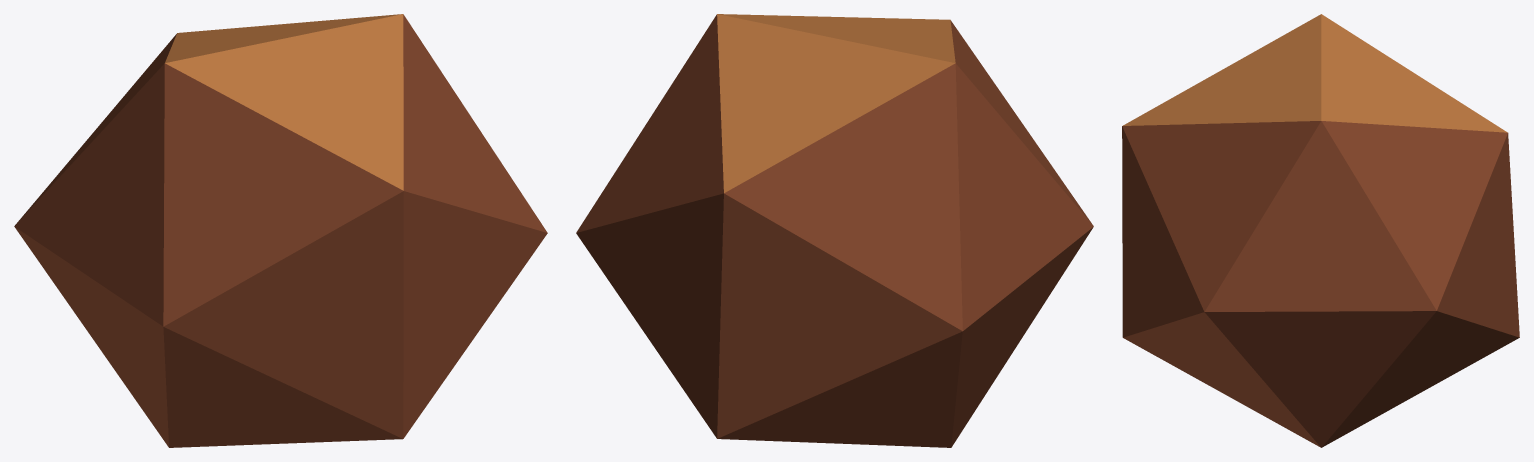
File: rock_chunk.gltf
3 views of the same model, side by side, from view 1: azimuth 30°, elevation 25°; view 2: azimuth 150°, elevation 25°; view 3: azimuth 270°, elevation 25° (orthographic). The views are drawn at different scales.
Visible parts, largest first — view 1: rock; view 2: rock; view 3: rock.
Part boxes in pixels (x1,y1,x2,y2): rock: (14, 14, 547, 447); rock: (576, 14, 1093, 447); rock: (1122, 14, 1519, 447).
Bounding box in the file's own units: 4.34 × 4.12 × 4.46.
